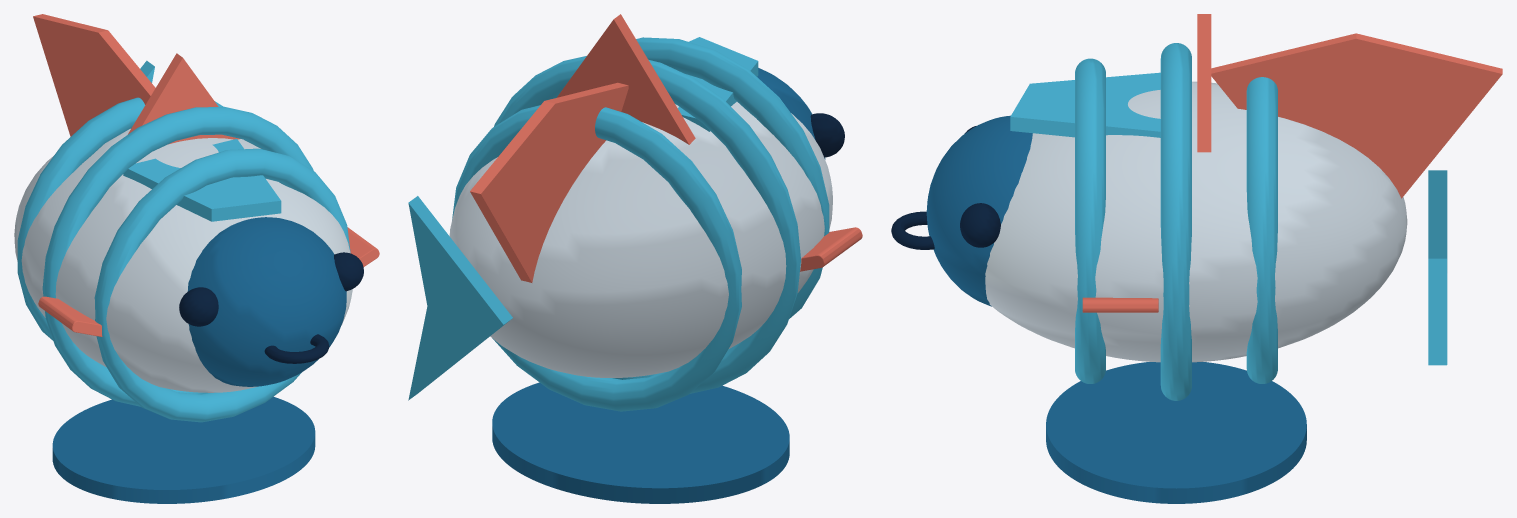
The model's file is 0119_海洋动物图鉴_叶海龙.glb.
The picture shows the model from 3 angles, left to right: view 1: azimuth 30°, elevation 25°; view 2: azimuth 150°, elevation 25°; view 3: azimuth 270°, elevation 25°; orthographic projection. The views are drawn at different scales.
Parts seen in each view (by area): view 1: card_0119; view 2: card_0119; view 3: card_0119.
Boxes of the visible parts, <box> form: card_0119: <box>14,14,379,503</box>; card_0119: <box>408,14,862,503</box>; card_0119: <box>891,14,1502,503</box>.
Size of the model in its own units: 0.8346 by 1 by 1.29.
